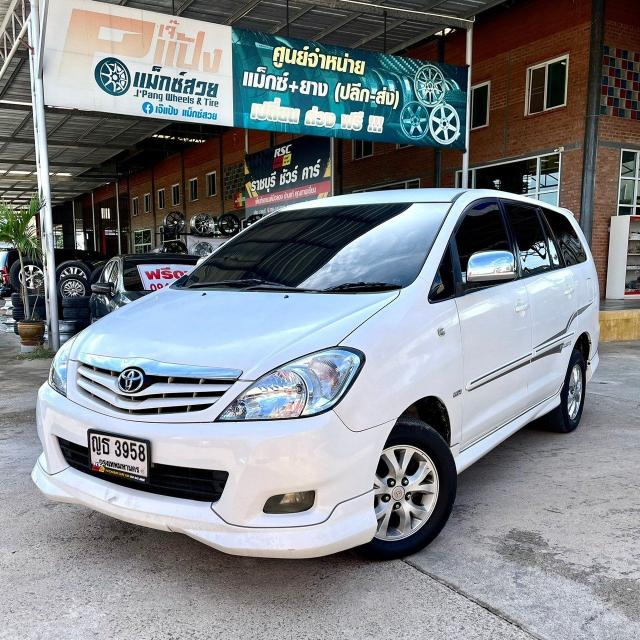light_vehicle: (31, 188, 603, 562)
